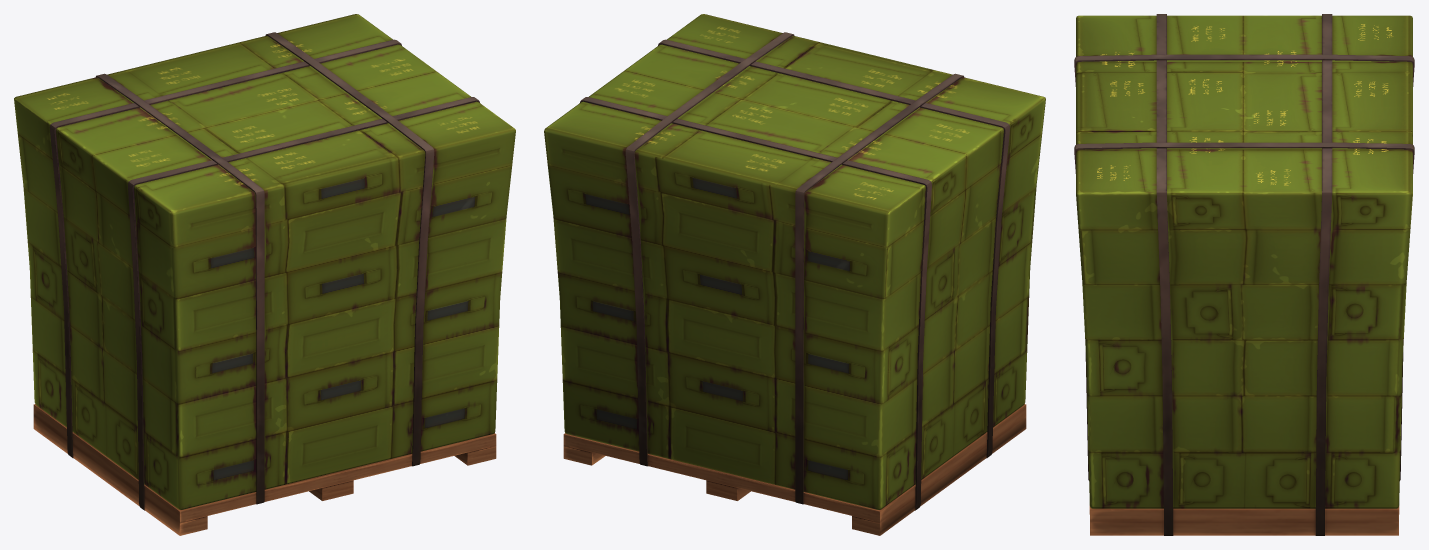
File: AmmoCan02_1.FBX
The picture shows the model from 3 angles, left to right: view 1: azimuth 30°, elevation 25°; view 2: azimuth 150°, elevation 25°; view 3: azimuth 270°, elevation 25°; orthographic projection. The views are drawn at different scales.
Parts seen in each view (by area): view 1: AmmoCan02_1; view 2: AmmoCan02_1; view 3: AmmoCan02_1.
Boxes of the visible parts, <box> form: AmmoCan02_1: <box>14,14,515,535</box>; AmmoCan02_1: <box>544,14,1045,535</box>; AmmoCan02_1: <box>1074,14,1414,535</box>.
Size of what is drawn, in the model's own units: 1.37 by 1.26 by 1.1.
